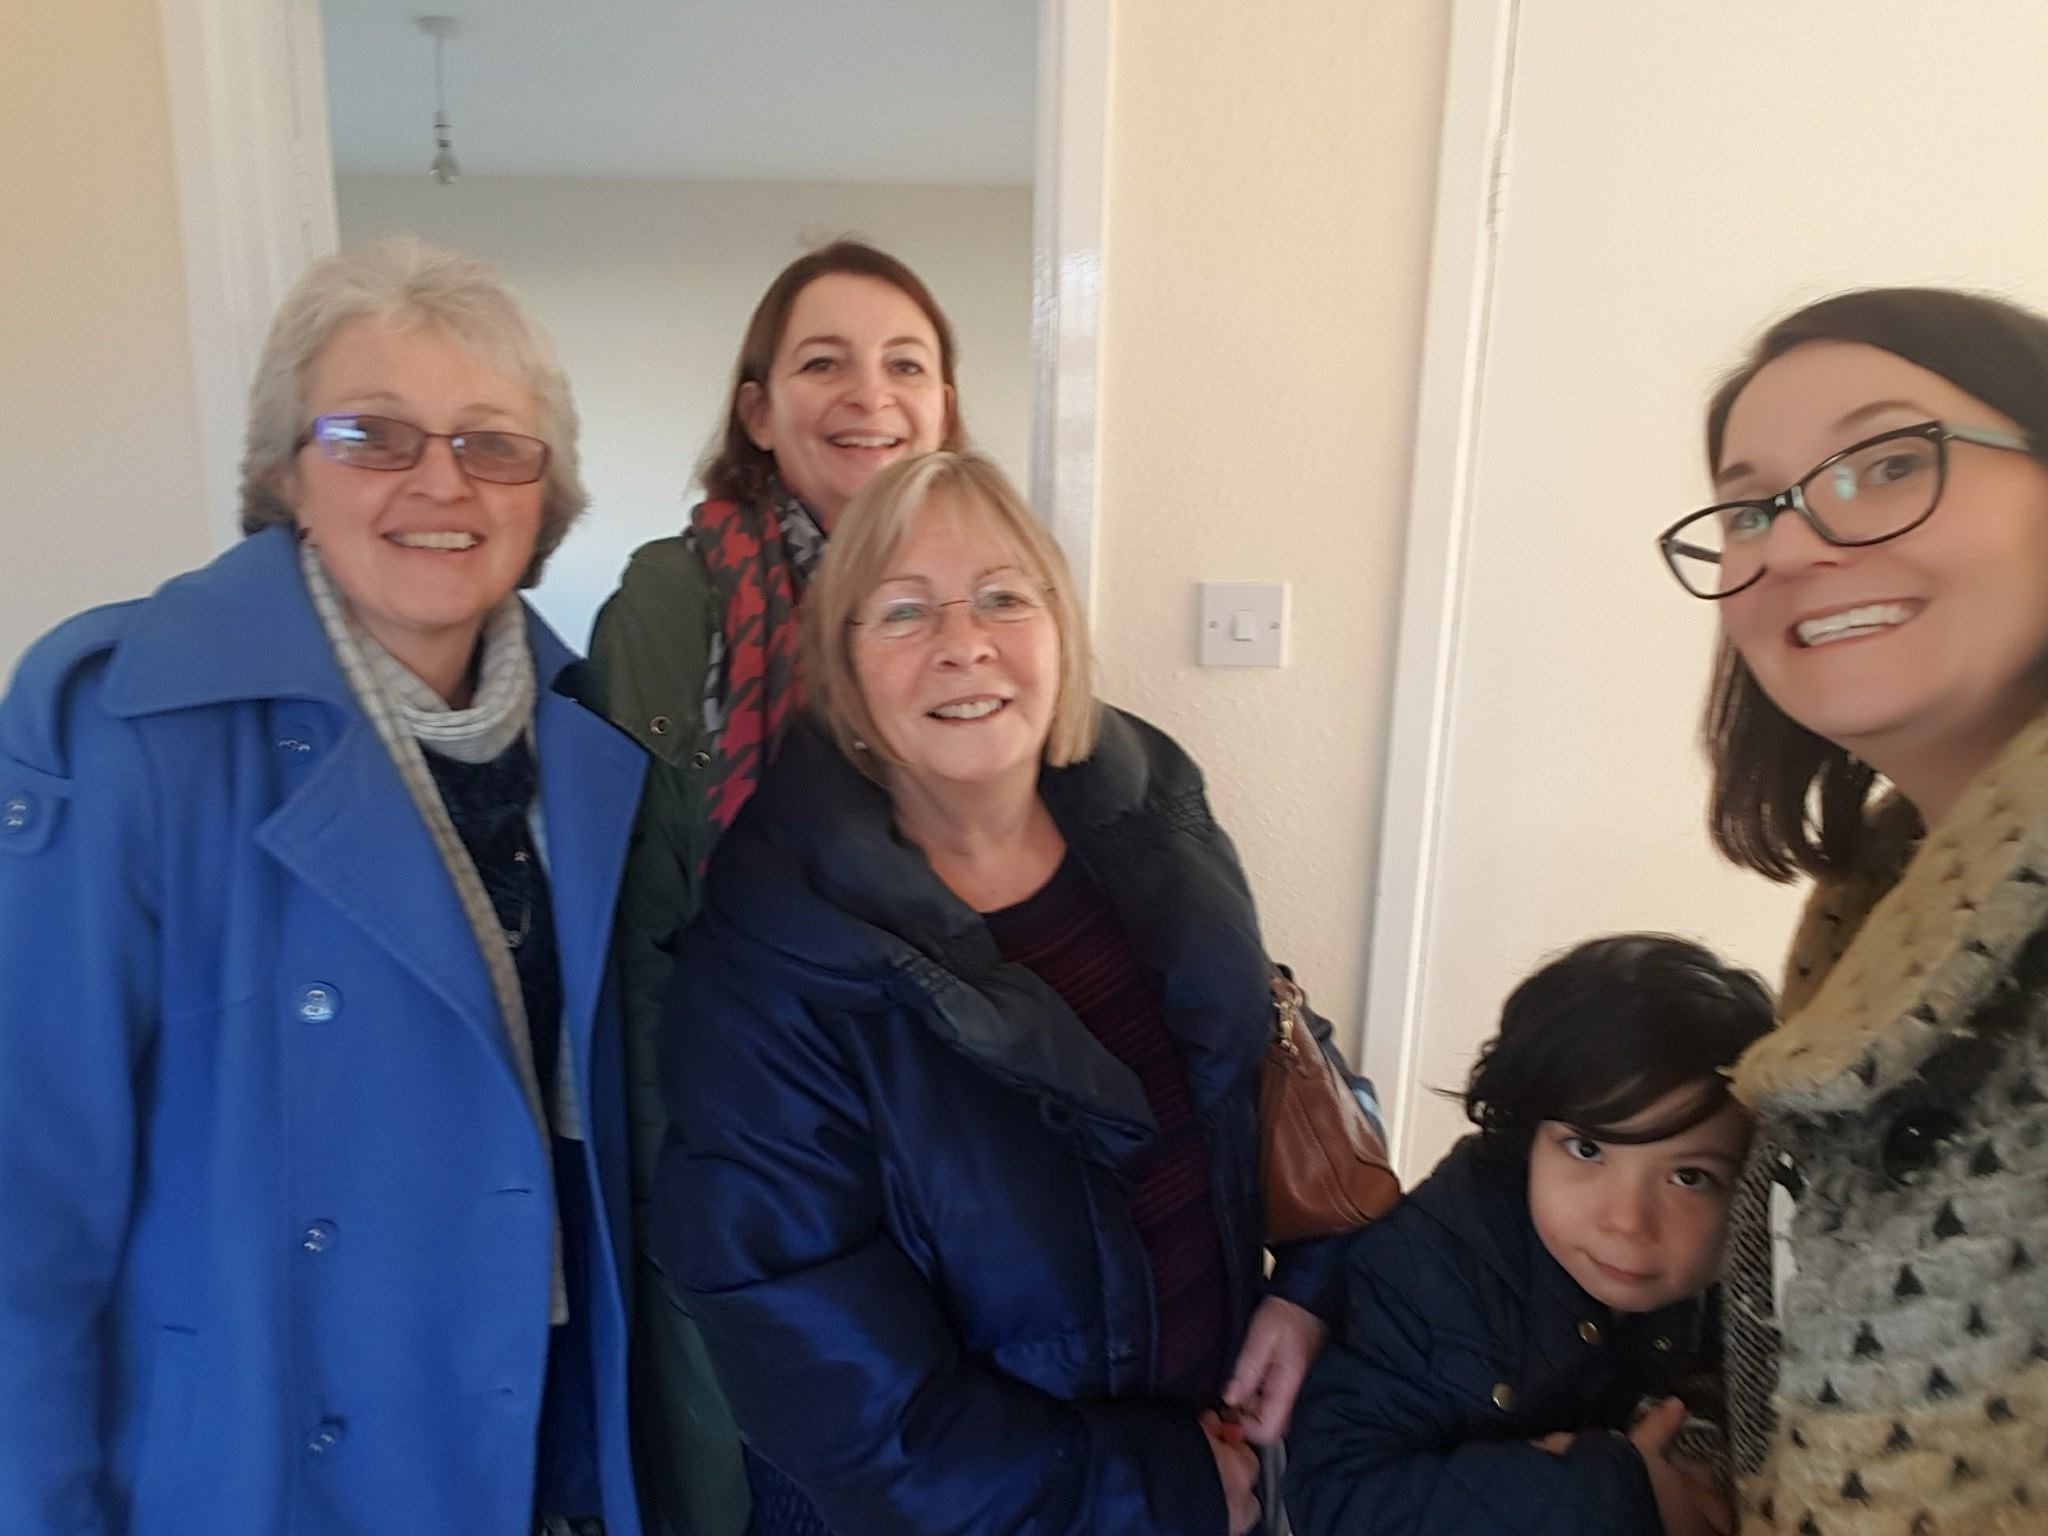face_no_mask: (1691, 342, 2048, 765), (280, 266, 553, 649), (1498, 934, 1764, 1308), (831, 470, 1094, 807), (725, 244, 954, 501)
